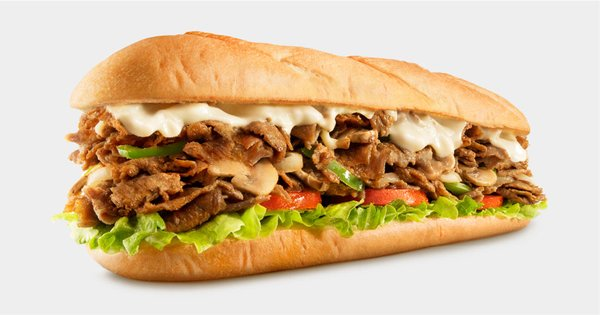soup: (61, 31, 545, 281)
